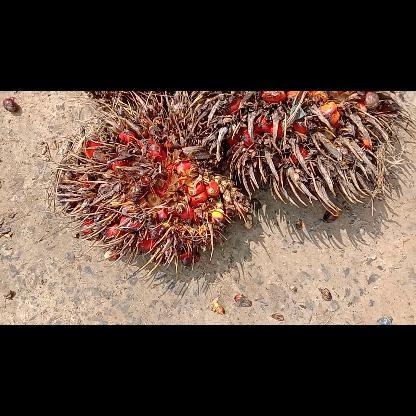Terlalu masak: (53, 106, 257, 280), (173, 91, 415, 217)
